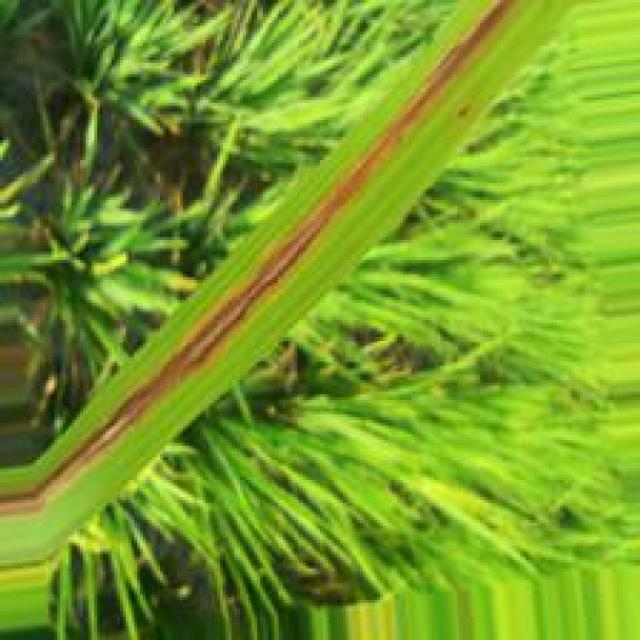Rice Tungro: (34, 0, 520, 506)
